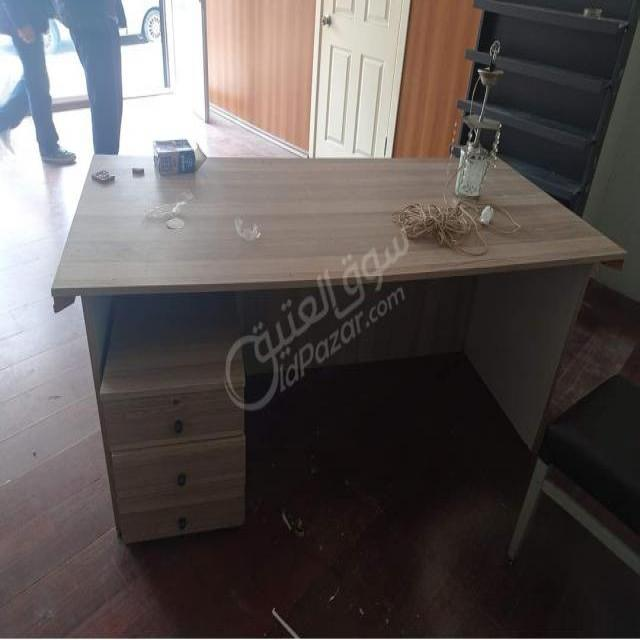desk: (81, 133, 617, 553)
